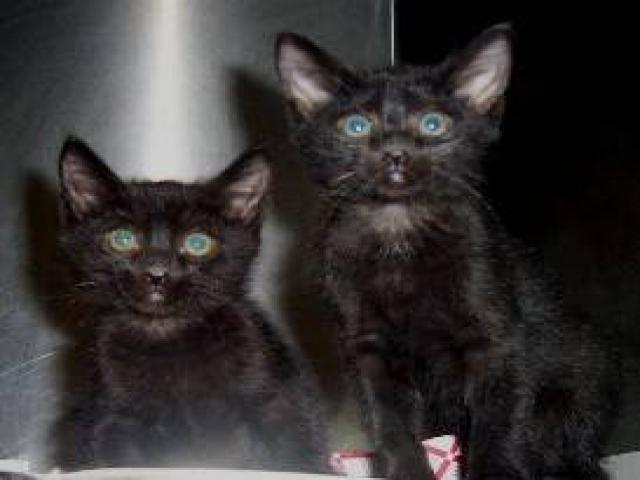cat: (261, 23, 608, 475), (46, 136, 322, 469)
